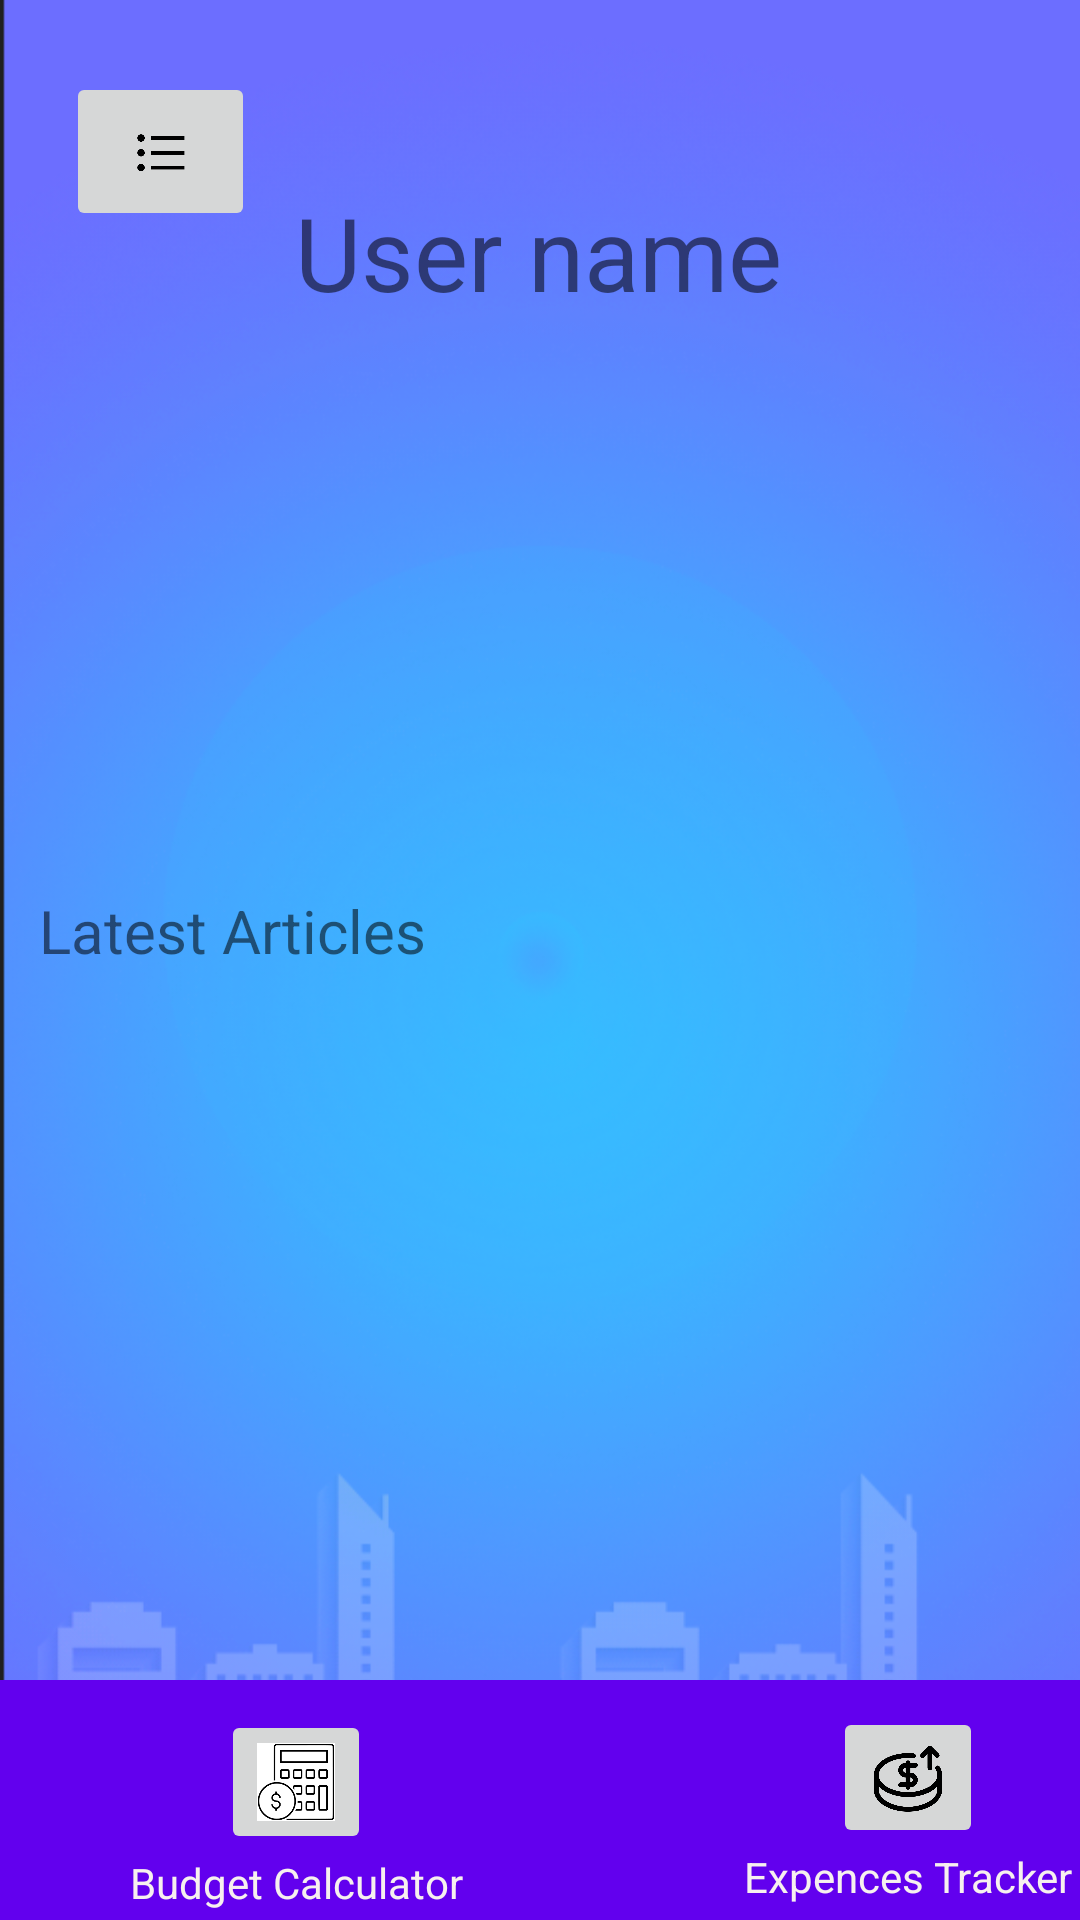

Where to tap for icons on this 1080px×1920px app screen, as (x,y):
menu: (160,151)
